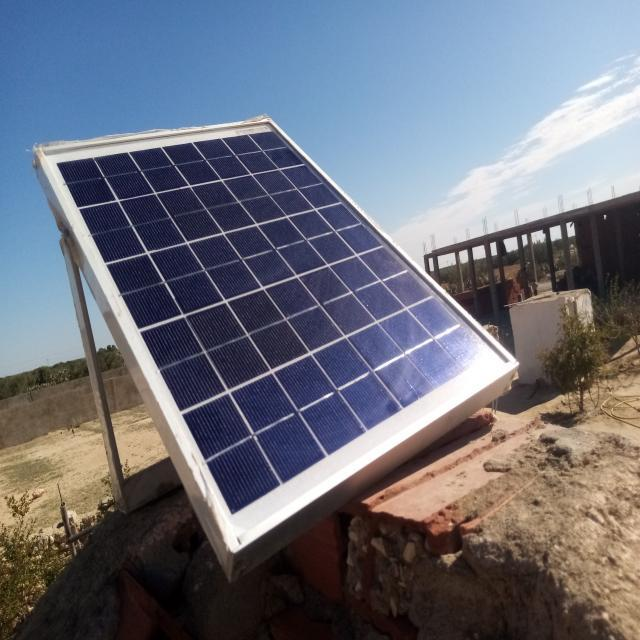no faulty: (35, 117, 518, 556)
